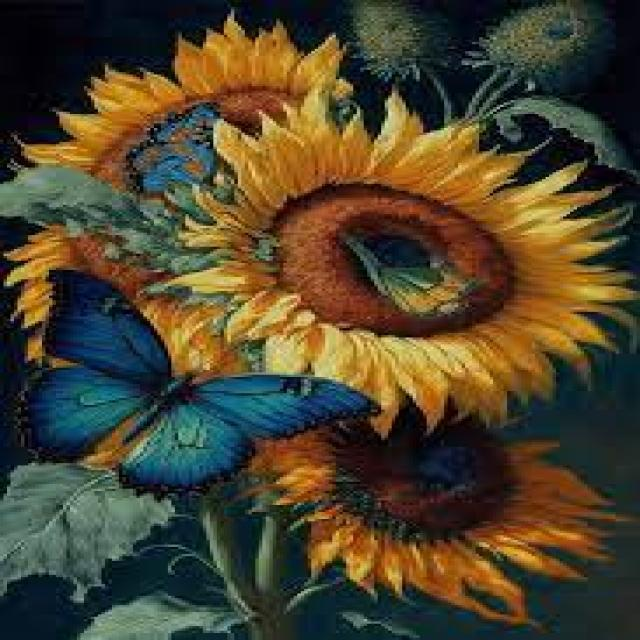sunflower: (160, 83, 636, 436), (0, 7, 353, 353), (238, 389, 632, 626), (40, 302, 260, 460)
